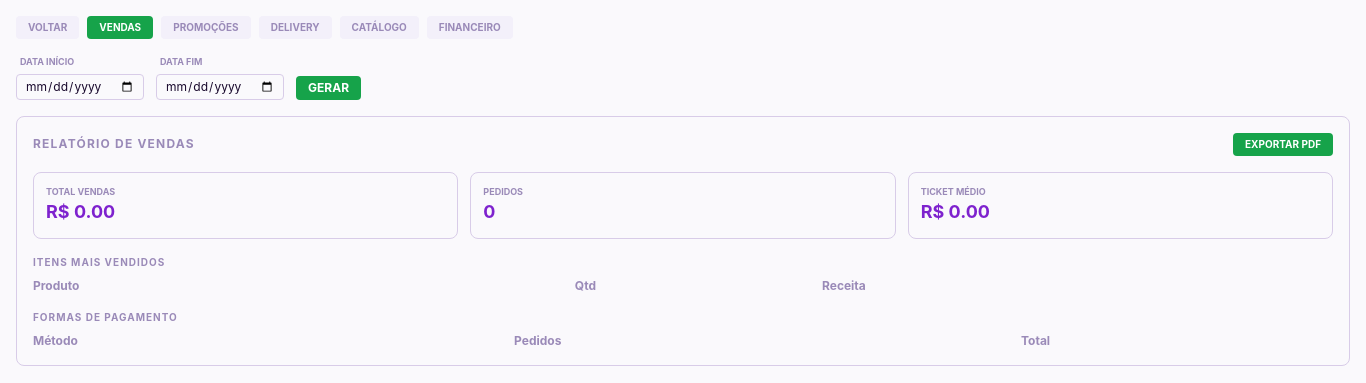
Test: ReportsScreen › switches to promotions tab and shows promotions table with columns
Click the button "Promoções" at (206, 28), box x1=161 y1=16 x2=251 y2=39
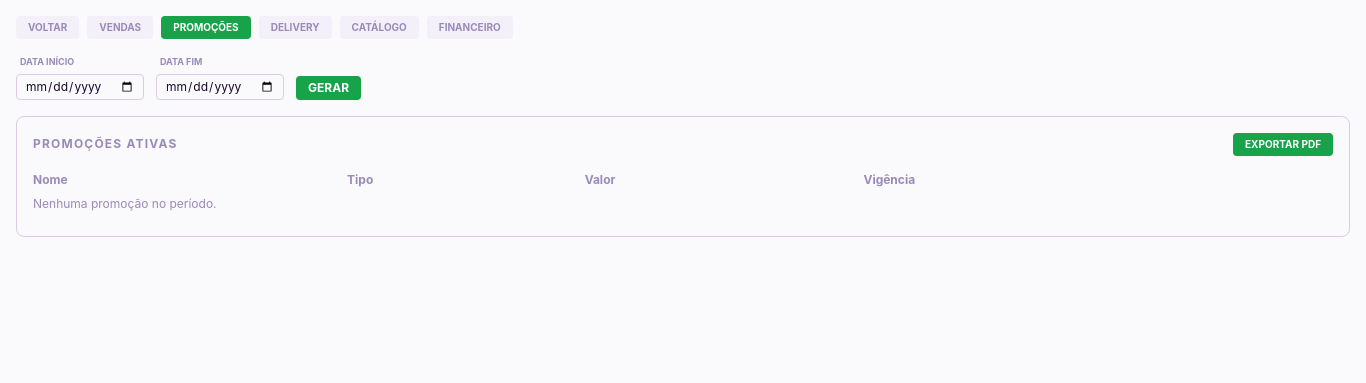
Expected: the column heading "Nome" is shown, x1=33 y1=172 x2=347 y2=188
Expected: the column heading "Tipo" is shown, x1=347 y1=172 x2=585 y2=188
Expected: the column heading "Valor" is shown, x1=585 y1=172 x2=864 y2=188
